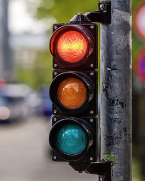red: (48, 21, 145, 181)
